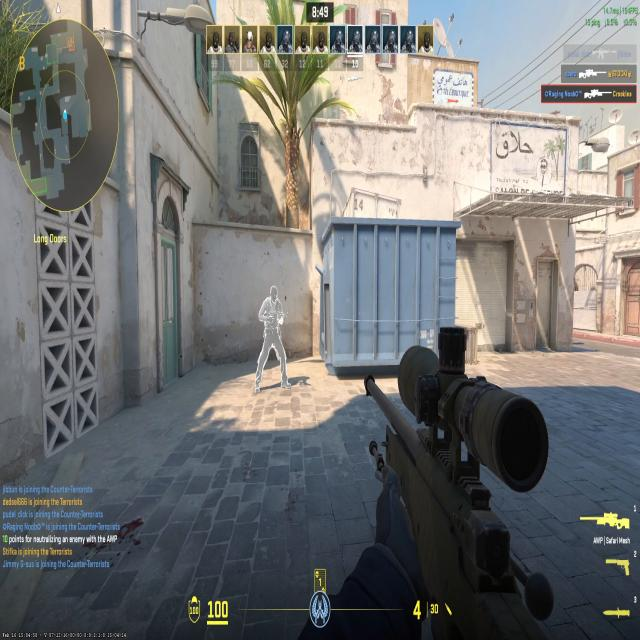player: (252, 280, 294, 395)
